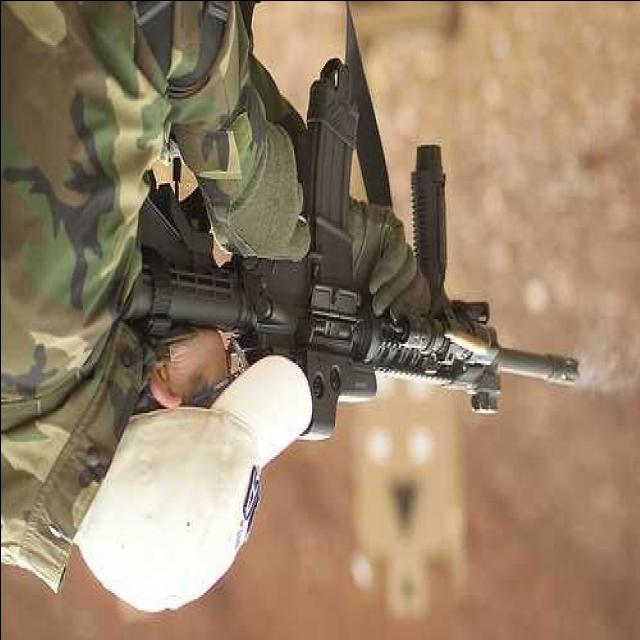heavyweapon: (116, 49, 612, 446)
